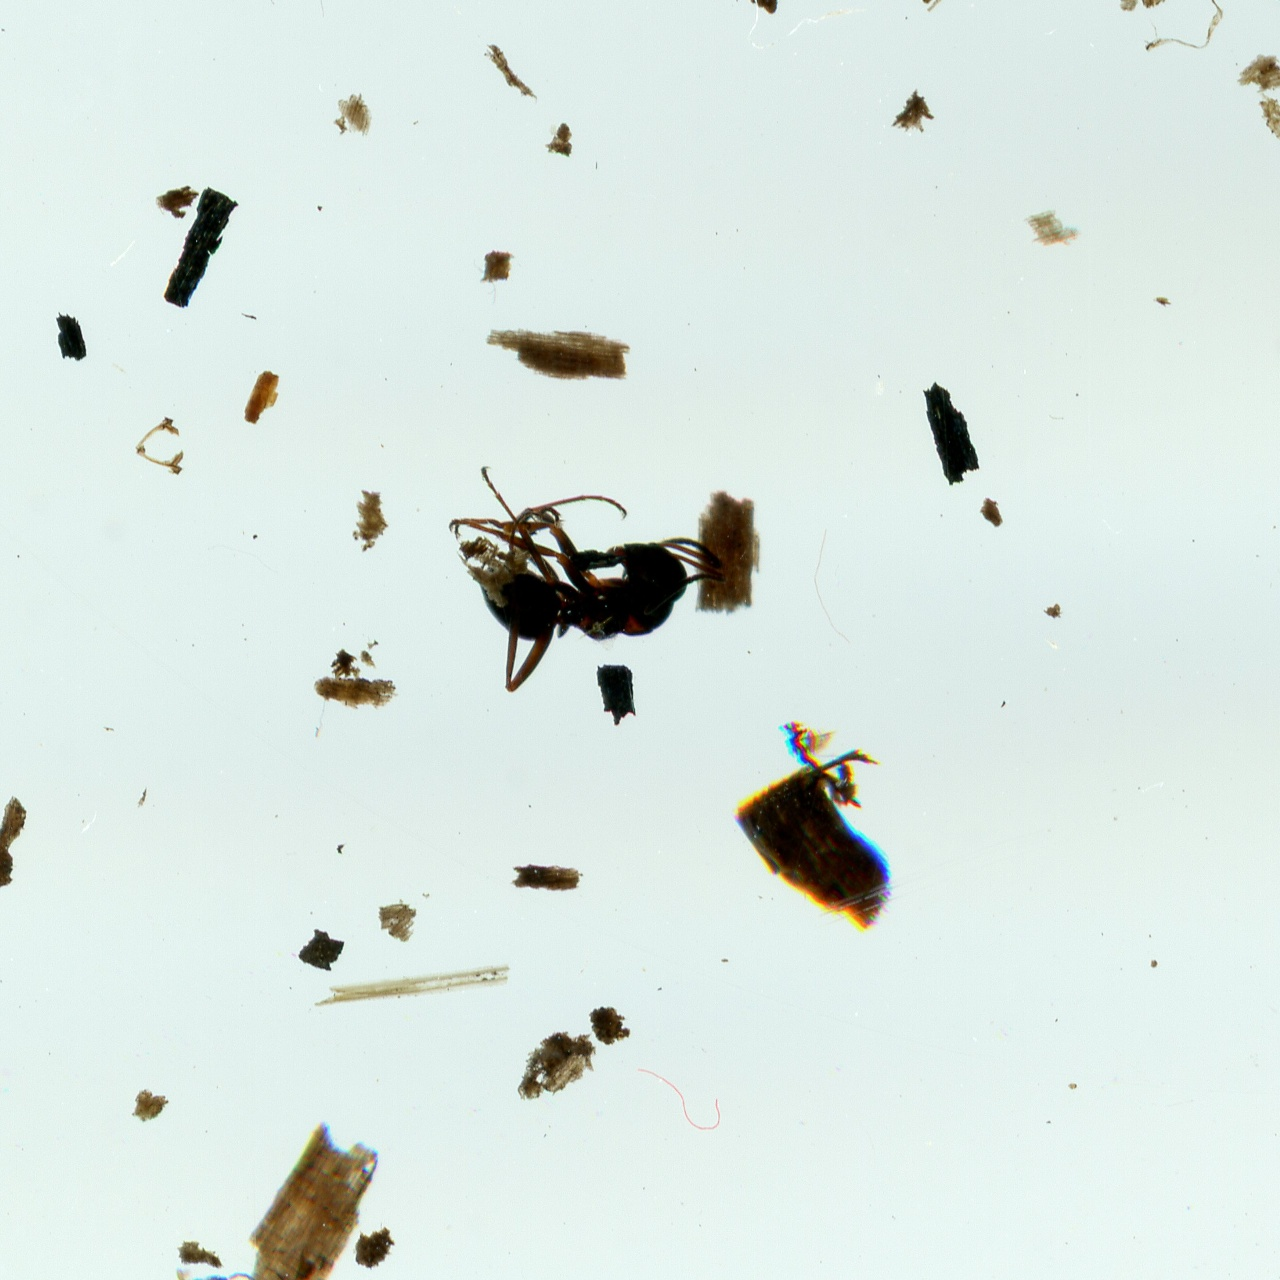arthropod: (441, 457, 739, 700), (157, 1262, 265, 1280)
